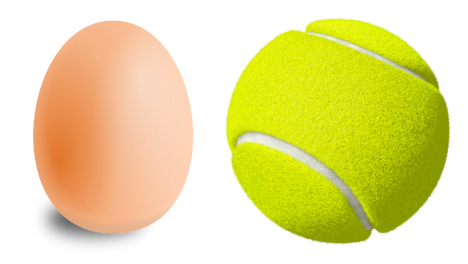ball: (217, 8, 454, 246)
egg: (30, 13, 198, 240)
